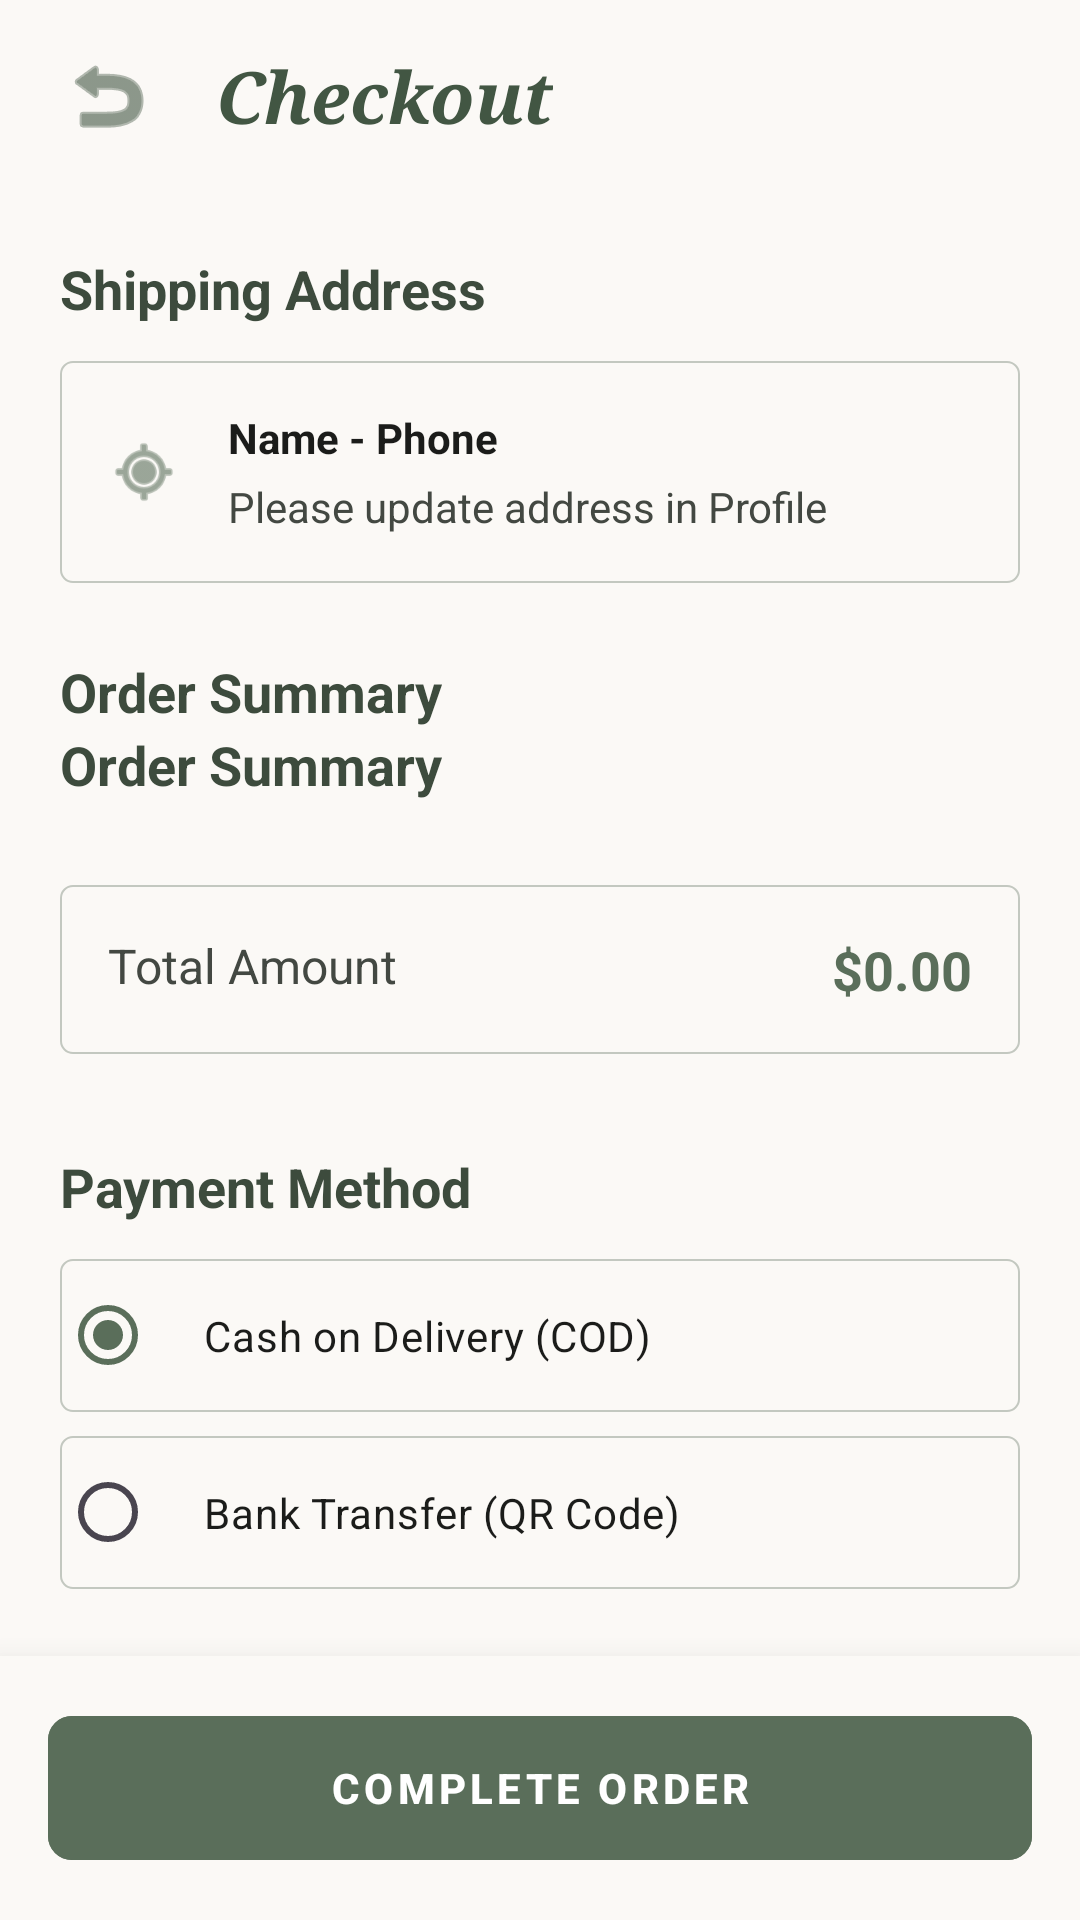

Named icons in this screenshot (1080px×1920px) and their centers, [x,y]:
mylocation: [144,472]
revert: [109,96]
